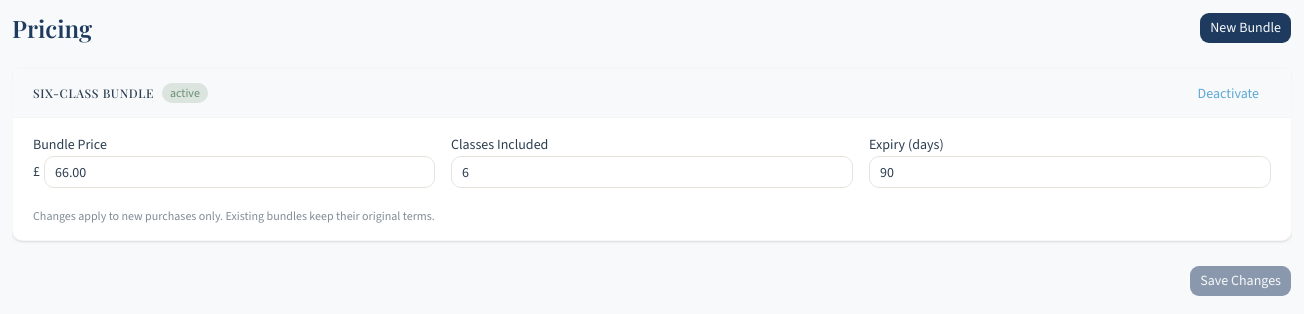
Test: /admin/pricing › reloads the prices after a save
Replace the text in the field showing "66.00" with "72.00" at (240, 172), box x1=44 y1=156 x2=435 y2=188
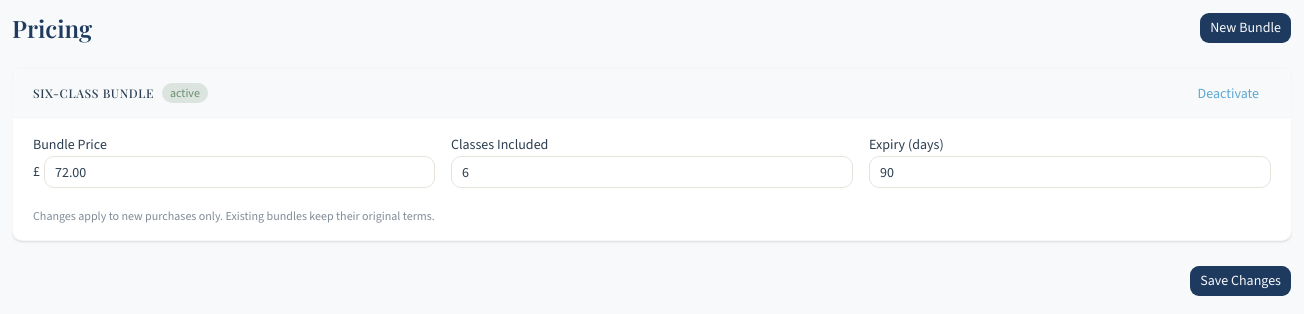
Click the button "Save Changes" at (1241, 281), box x1=1189 y1=265 x2=1292 y2=297
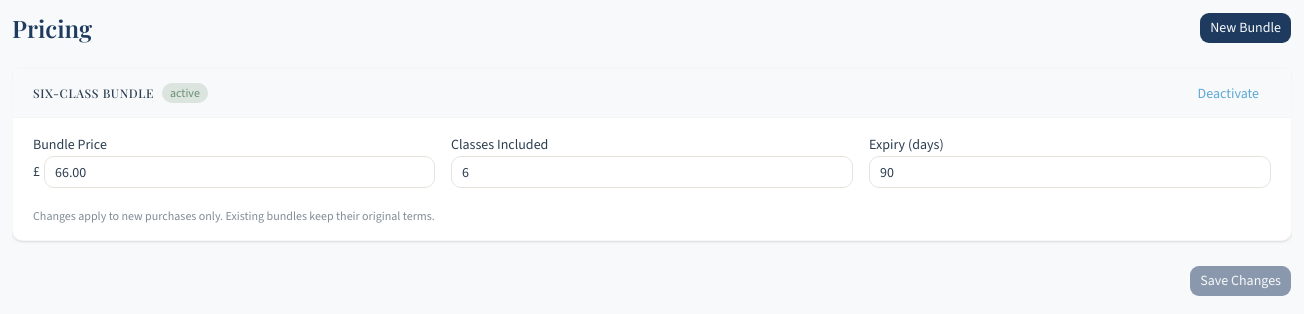
Expected: the field showing "66.00" is shown, x1=44 y1=156 x2=435 y2=188
